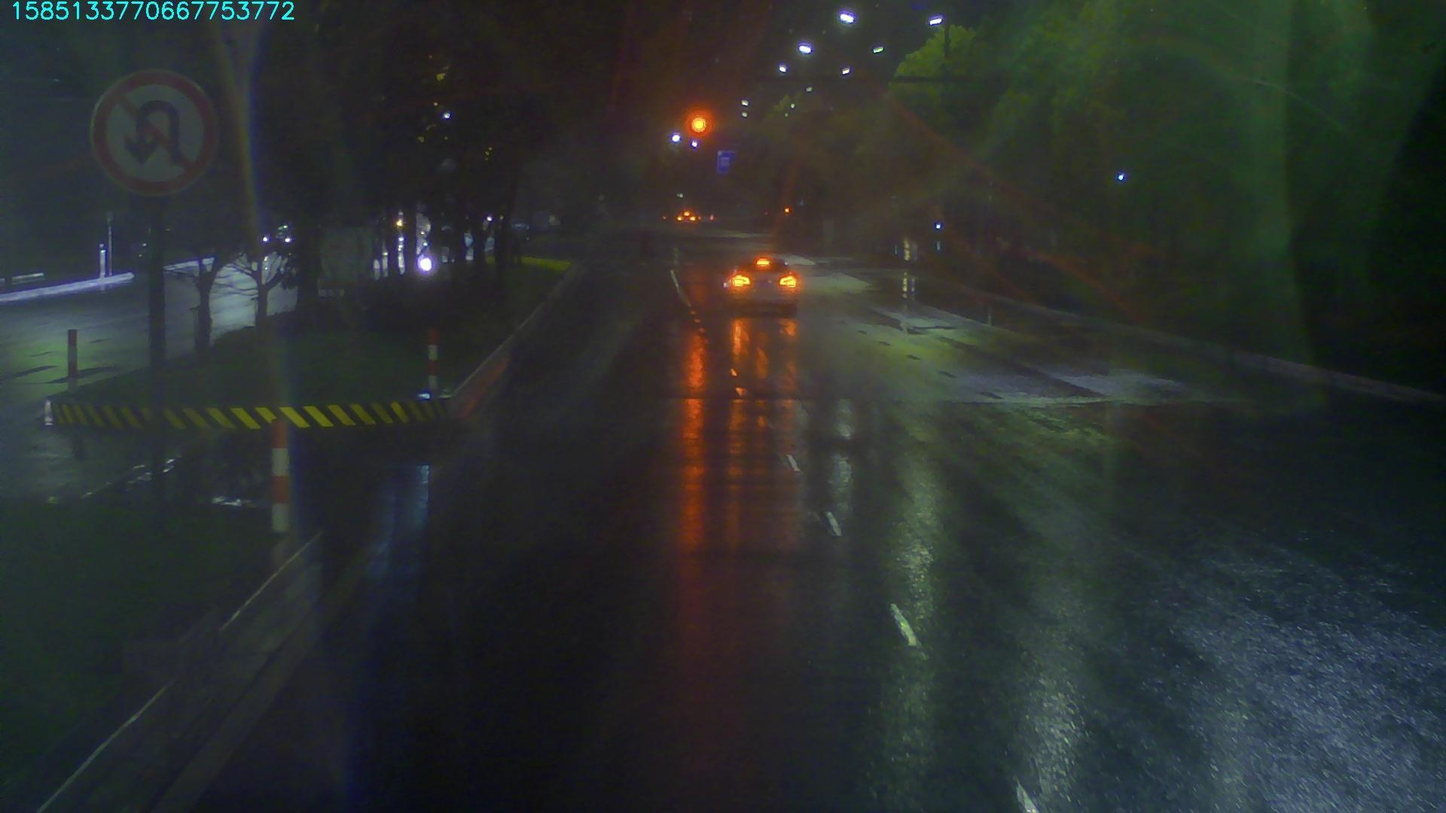red: (688, 115, 709, 139)
